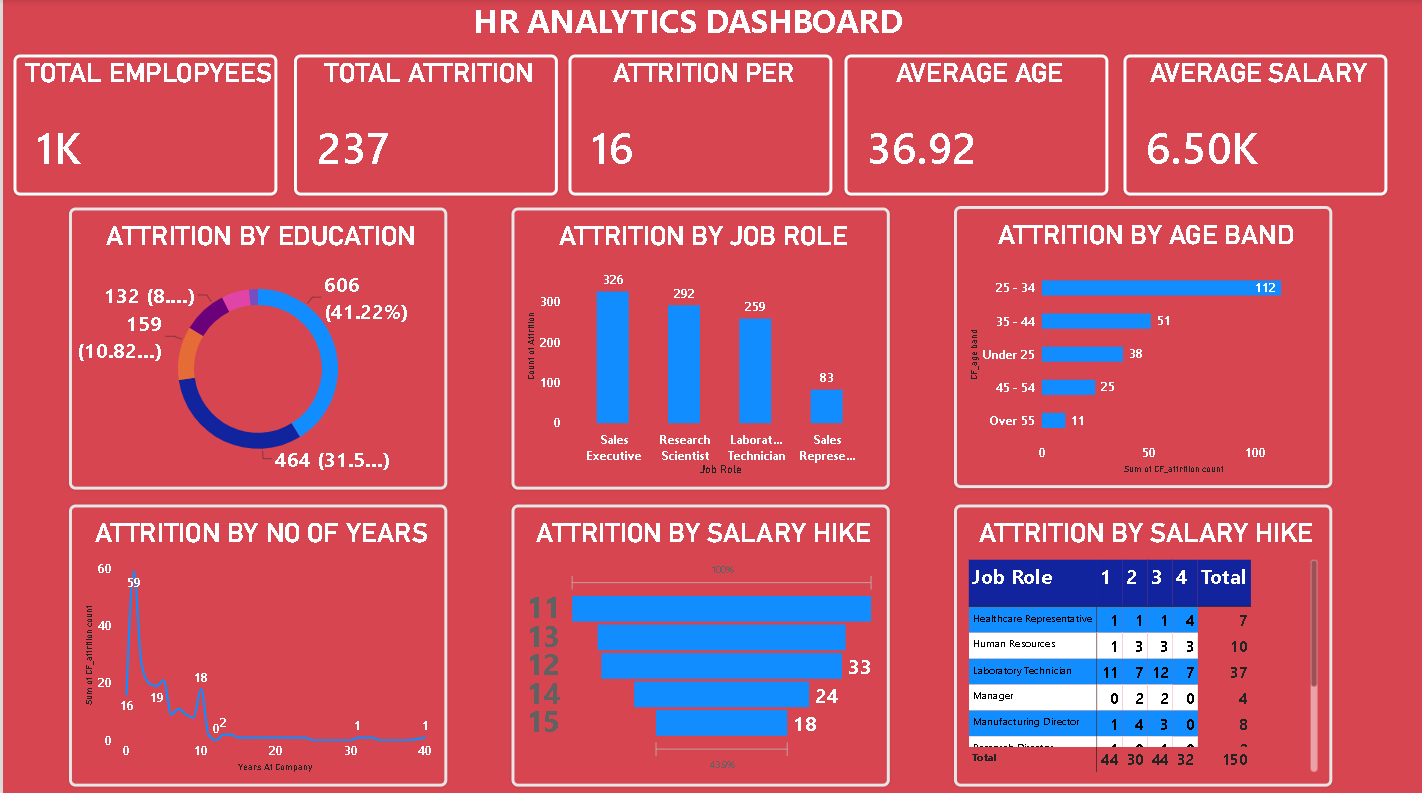

The dashboard page shown, as its layout file describes it:
{"tool":"powerbi","page":{"name":"Page 1","canvas":[1920,1080],"ordinal":0},"visuals":[{"type":"cardVisual","title":"TOTAL EMPLOPYEES","fields":{"Data":["Sum(Data.Employee Count)"]},"box":[14.2,75,356.6,190.8],"z":0},{"type":"cardVisual","title":"TOTAL ATTRITION","fields":{"Data":["Sum(Data.CF_attrition count)"]},"box":[393.3,75,356.6,190.8],"z":1},{"type":"cardVisual","title":"ATTRITION PER","fields":{"Data":["Data.Attrition_percentage"]},"box":[764.4,75,356.6,190.8],"z":2},{"type":"cardVisual","title":"AVERAGE AGE","fields":{"Data":["Avg(Data.Age)"]},"box":[1137.5,75,356.6,190.8],"z":3},{"type":"cardVisual","title":"AVERAGE SALARY","fields":{"Data":["Avg(Data.Monthly Income)"]},"box":[1514.6,75,356.6,190.8],"z":4},{"type":"donutChart","title":"ATTRITION BY EDUCATION","fields":{"Category":["Data.Education Field"],"Y":["CountNonNull(Data.Attrition)"]},"box":[89.2,281.8,511,381.6],"z":5},{"type":"columnChart","title":"ATTRITION BY JOB ROLE","fields":{"Category":["Data.Job Role"],"Y":["CountNonNull(Data.Attrition)"]},"box":[687.3,281.8,511,381.6],"z":6},{"type":"barChart","title":"ATTRITION BY AGE BAND","fields":{"Category":["Data.CF_age band"],"Y":["Sum(Data.CF_attrition count)"]},"box":[1285.5,279.8,511,381.6],"z":7},{"type":"lineChart","title":"ATTRITION BY NO OF YEARS","fields":{"Category":["Data.Years At Company"],"Y":["Sum(Data.CF_attrition count)"]},"box":[89.2,683.3,511,381.6],"z":8},{"type":"funnel","title":"ATTRITION BY SALARY HIKE","fields":{"Category":["Data.Percent Salary Hike"],"Y":["Sum(Data.CF_attrition count)"]},"box":[687.3,683.3,511,381.6],"z":9},{"type":"pivotTable","title":"ATTRITION BY SALARY HIKE","fields":{"Columns":["Data.Job Satisfaction"],"Rows":["Data.Job Role"],"Values":["Sum(Data.CF_attrition count)"]},"box":[1285.5,683.3,511,381.6],"z":10},{"type":"textbox","box":[99.4,0,1652.5,75],"z":11}]}

Visuals, with their boxes in screenshot pixels (x1, y1, x2, y2), scaled from the page's 1920x1080 canvas onto the 1422x793 screenshot:
"TOTAL EMPLOPYEES" cardVisual: pyautogui.locateOnScreen(11, 55, 275, 195)
"TOTAL ATTRITION" cardVisual: pyautogui.locateOnScreen(291, 55, 555, 195)
"ATTRITION PER" cardVisual: pyautogui.locateOnScreen(566, 55, 830, 195)
"AVERAGE AGE" cardVisual: pyautogui.locateOnScreen(842, 55, 1107, 195)
"AVERAGE SALARY" cardVisual: pyautogui.locateOnScreen(1122, 55, 1386, 195)
"ATTRITION BY EDUCATION" donutChart: pyautogui.locateOnScreen(66, 207, 445, 487)
"ATTRITION BY JOB ROLE" columnChart: pyautogui.locateOnScreen(509, 207, 887, 487)
"ATTRITION BY AGE BAND" barChart: pyautogui.locateOnScreen(952, 205, 1331, 486)
"ATTRITION BY NO OF YEARS" lineChart: pyautogui.locateOnScreen(66, 502, 445, 782)
"ATTRITION BY SALARY HIKE" funnel: pyautogui.locateOnScreen(509, 502, 887, 782)
"ATTRITION BY SALARY HIKE" pivotTable: pyautogui.locateOnScreen(952, 502, 1331, 782)
textbox: pyautogui.locateOnScreen(74, 0, 1298, 55)
